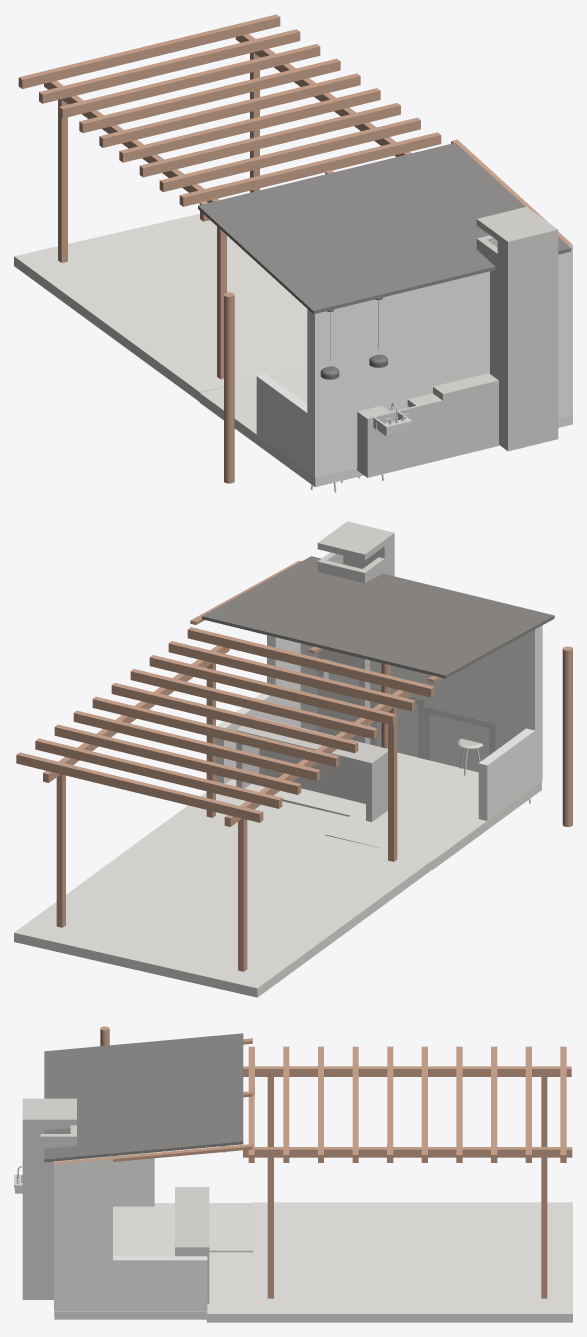
The model's file is espaco-gourmet-pergolado.glb.
3 views of the same model, one above another, from view 1: azimuth 30°, elevation 25°; view 2: azimuth 150°, elevation 25°; view 3: azimuth 270°, elevation 25° (orthographic). The views are drawn at different scales.
Parts seen in each view (by area): view 1: Quadro estrutural, Pisos, Telhados, Paredes, Modelos genéricos, Pilares estruturais, Peças hidrossanitárias; view 2: Pisos, Quadro estrutural, Telhados, Paredes, Modelos genéricos, Pilares estruturais; view 3: Pisos, Telhados, Quadro estrutural, Paredes, Modelos genéricos.
Part boxes in pixels (box(x1,y1,x2,y2)): Quadro estrutural: box(18, 14, 572, 379); Pisos: box(14, 214, 572, 487); Telhados: box(198, 142, 571, 314); Paredes: box(256, 222, 572, 477); Modelos genéricos: box(357, 206, 558, 477); Pilares estruturais: box(224, 292, 234, 483); Peças hidrossanitárias: box(372, 403, 411, 436); Pisos: box(14, 752, 541, 997); Quadro estrutural: box(16, 560, 442, 971); Telhados: box(202, 556, 554, 678); Paredes: box(216, 561, 542, 820); Modelos genéricos: box(236, 521, 495, 821); Pilares estruturais: box(381, 646, 572, 826); Pisos: box(54, 1202, 572, 1322); Telhados: box(44, 1033, 243, 1162); Quadro estrutural: box(54, 1038, 572, 1298); Paredes: box(54, 1152, 207, 1313); Modelos genéricos: box(22, 1098, 209, 1303).
Bounding box in the file's own units: 5.12 × 3.45 × 8.99.
